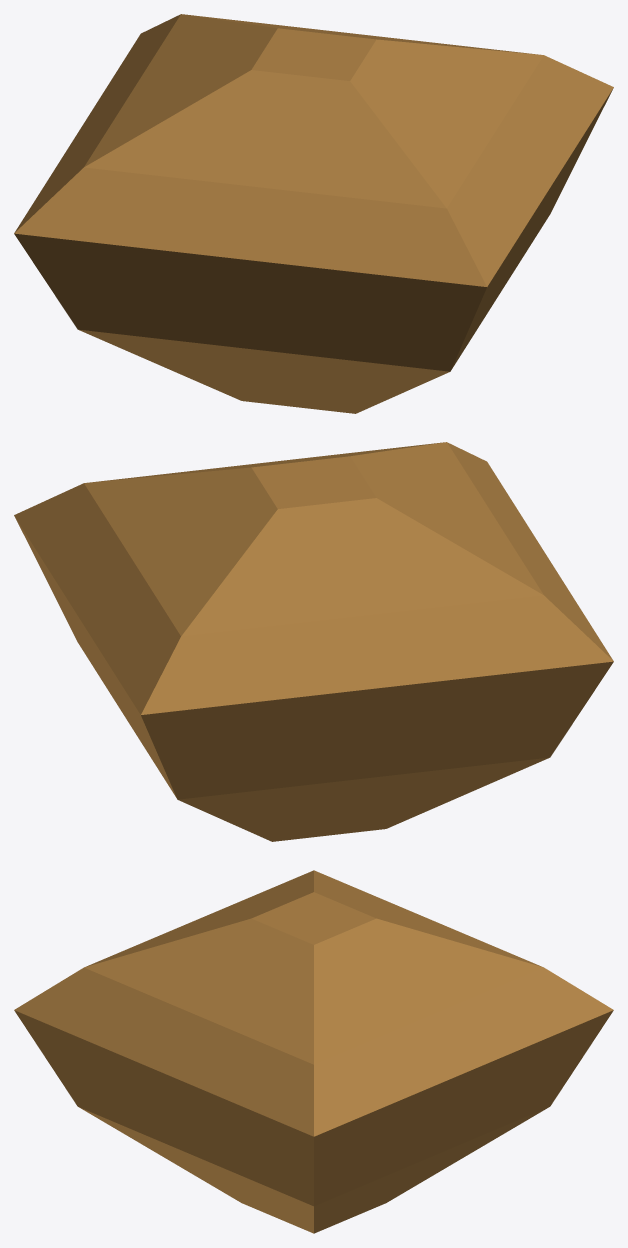
The model's file is carrot0.glb.
3 views of the same model, one above another, from view 1: azimuth 30°, elevation 25°; view 2: azimuth 150°, elevation 25°; view 3: azimuth 270°, elevation 25° (orthographic). The views are drawn at different scales.
Parts seen in each view (by area): view 1: Carrot0; view 2: Carrot0; view 3: Carrot0.
Part boxes in pixels (x1,y1,x2,y2): Carrot0: (14, 14, 613, 413); Carrot0: (14, 442, 613, 841); Carrot0: (14, 870, 613, 1233).
Bounding box in the file's own units: 0.1278 × 0.0669 × 0.1278.
